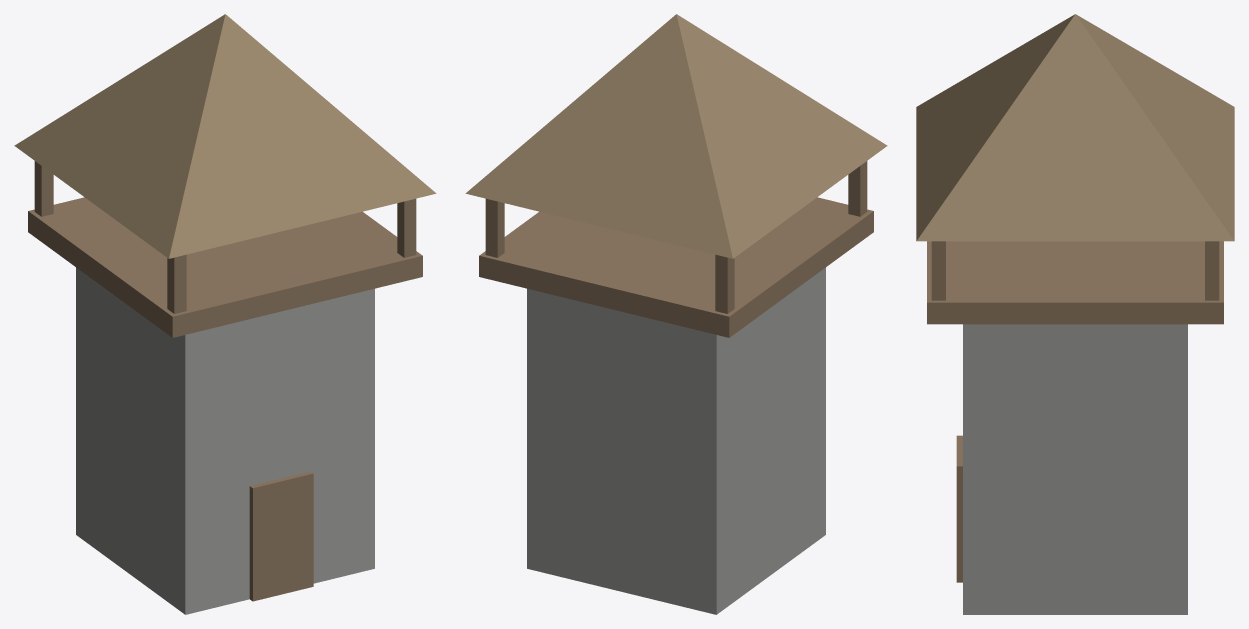
File: watchtower.fbx
3 views of the same model, side by side, from view 1: azimuth 30°, elevation 25°; view 2: azimuth 150°, elevation 25°; view 3: azimuth 270°, elevation 25° (orthographic). The views are drawn at different scales.
Parts seen in each view (by area): view 1: watchtower; view 2: watchtower; view 3: watchtower.
Boxes of the visible parts, left/top/right/bottom form: watchtower: left=14, top=14, right=436, bottom=614; watchtower: left=465, top=14, right=887, bottom=614; watchtower: left=916, top=14, right=1234, bottom=614.
Bounding box in the file's own units: 396 × 760 × 396.
